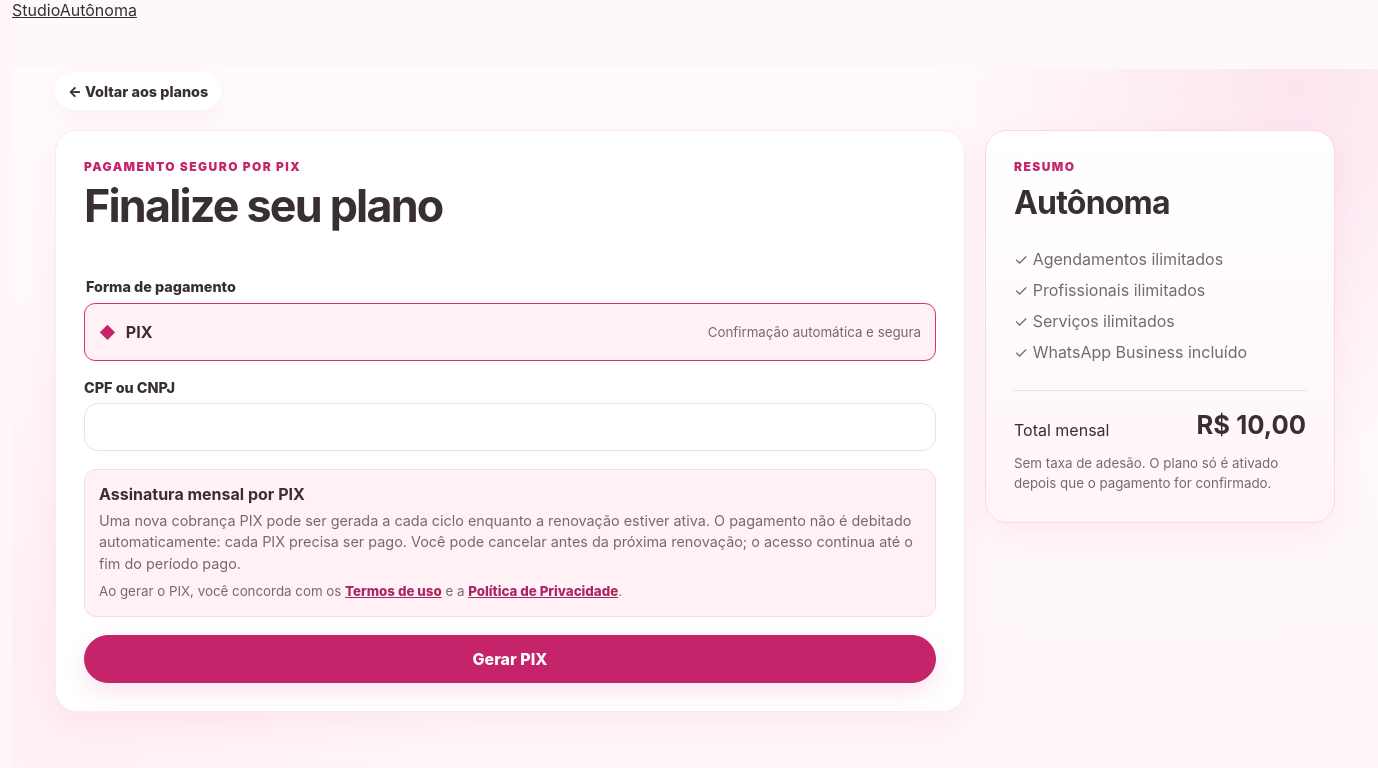
Test: checkout PIX › recupera PIX criado durante troca de plano sem enviar segundo POST
Expected: the heading "Autônoma" is shown, [1014,183,1170,222]
Type "12345678901" into the field labelled "CPF ou CNPJ". click: (510, 427)
box: [84,403,936,451]
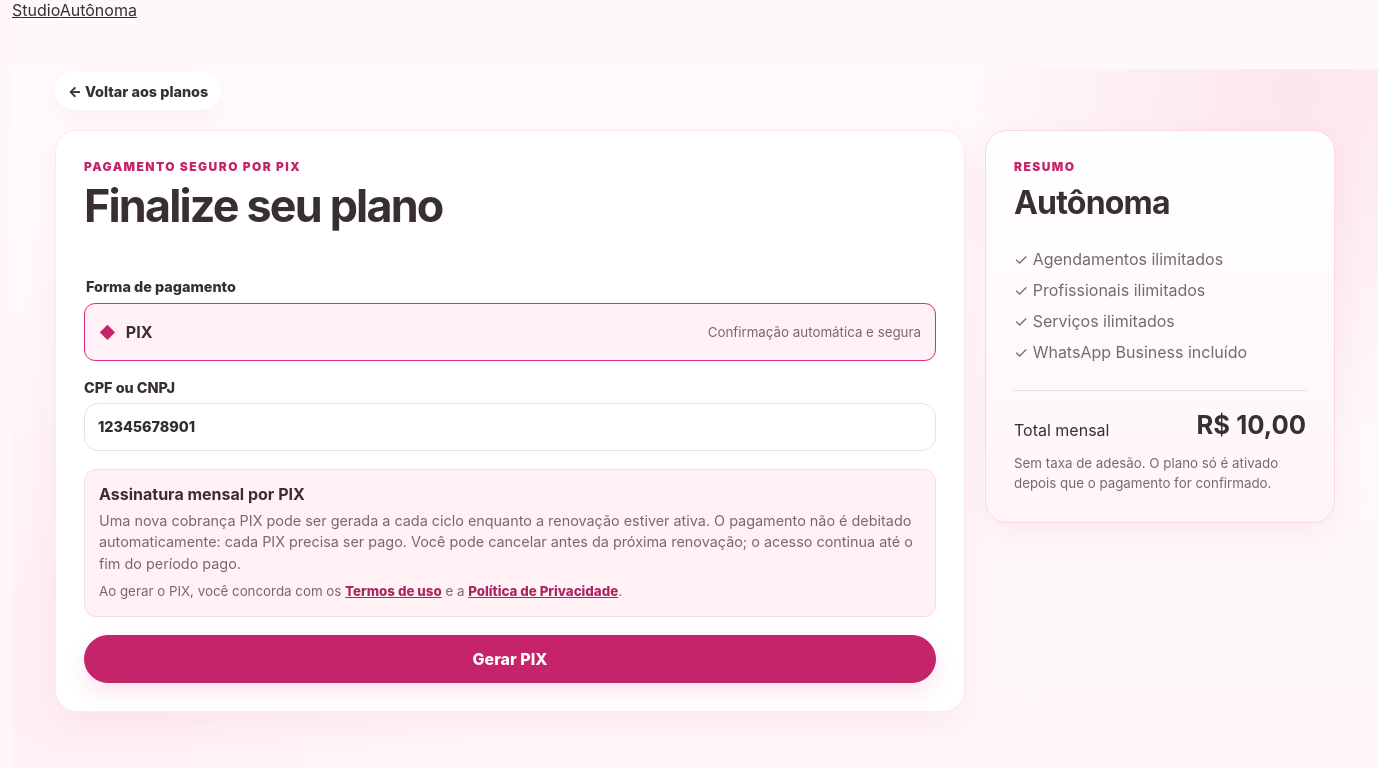
Submit the form named "Gerar PIX", box [55,130,965,712]
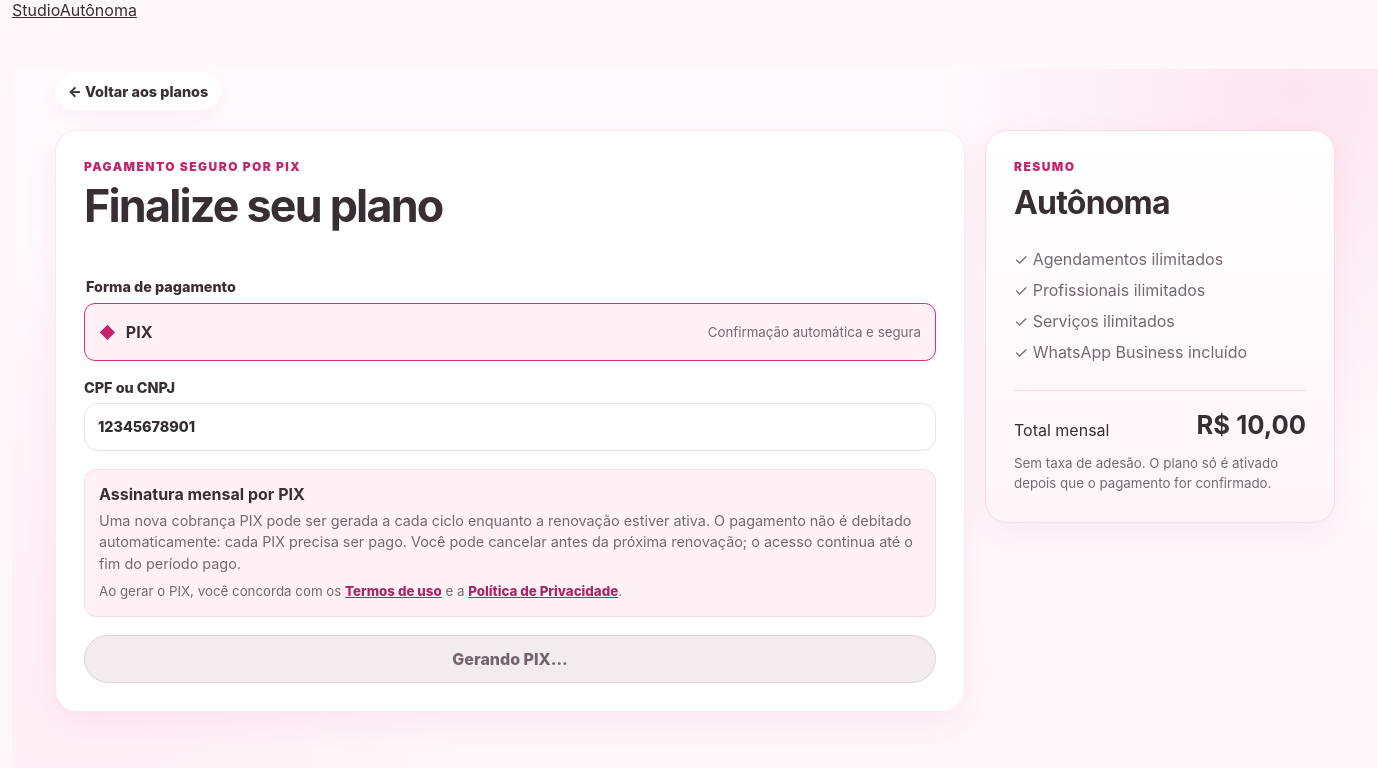
Click the link "Studio". click: (36, 10)
box: [12,0,60,20]
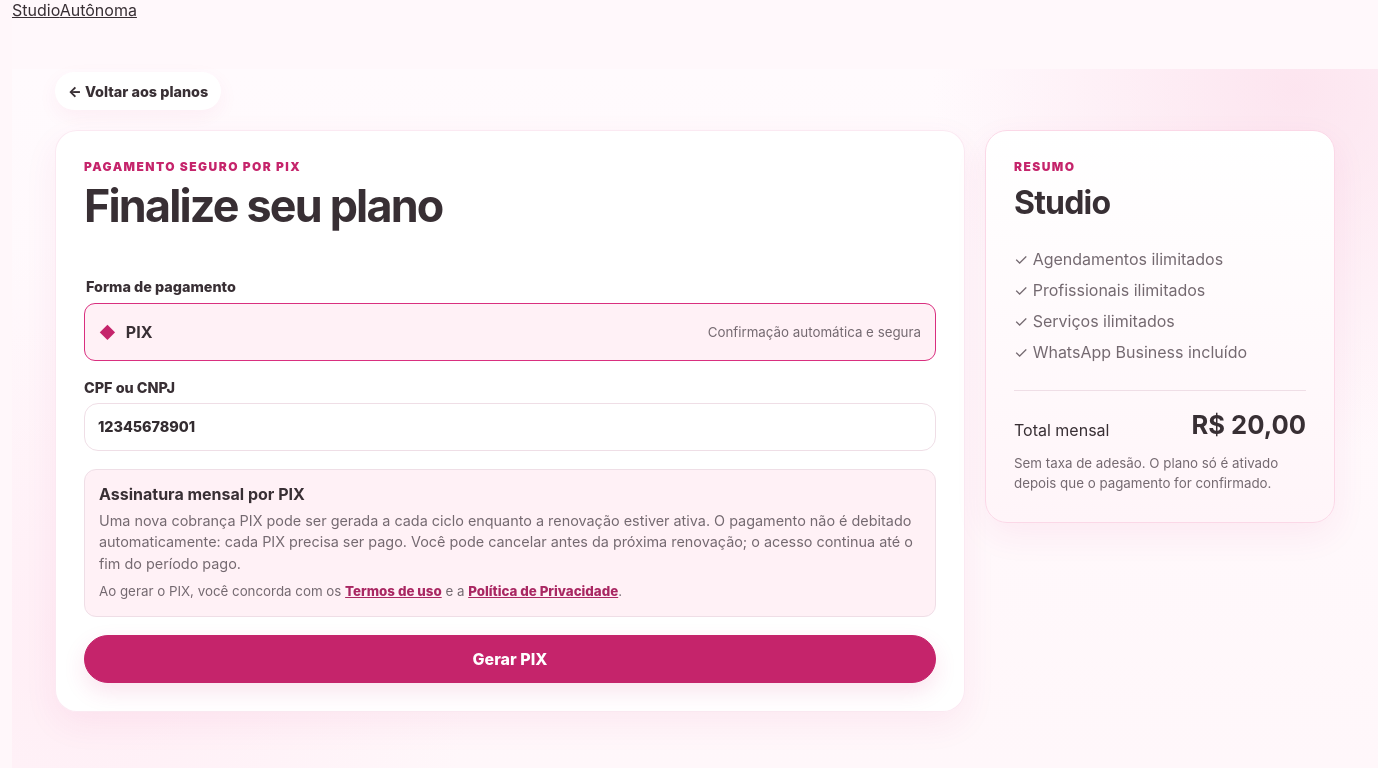
Expected: the heading "PIX gerado" is not shown
Expected: the heading "Studio" is shown, [1014,183,1110,222]
Click the link "Autônoma". click: (98, 10)
box: [60,0,137,20]
(page scrolled)
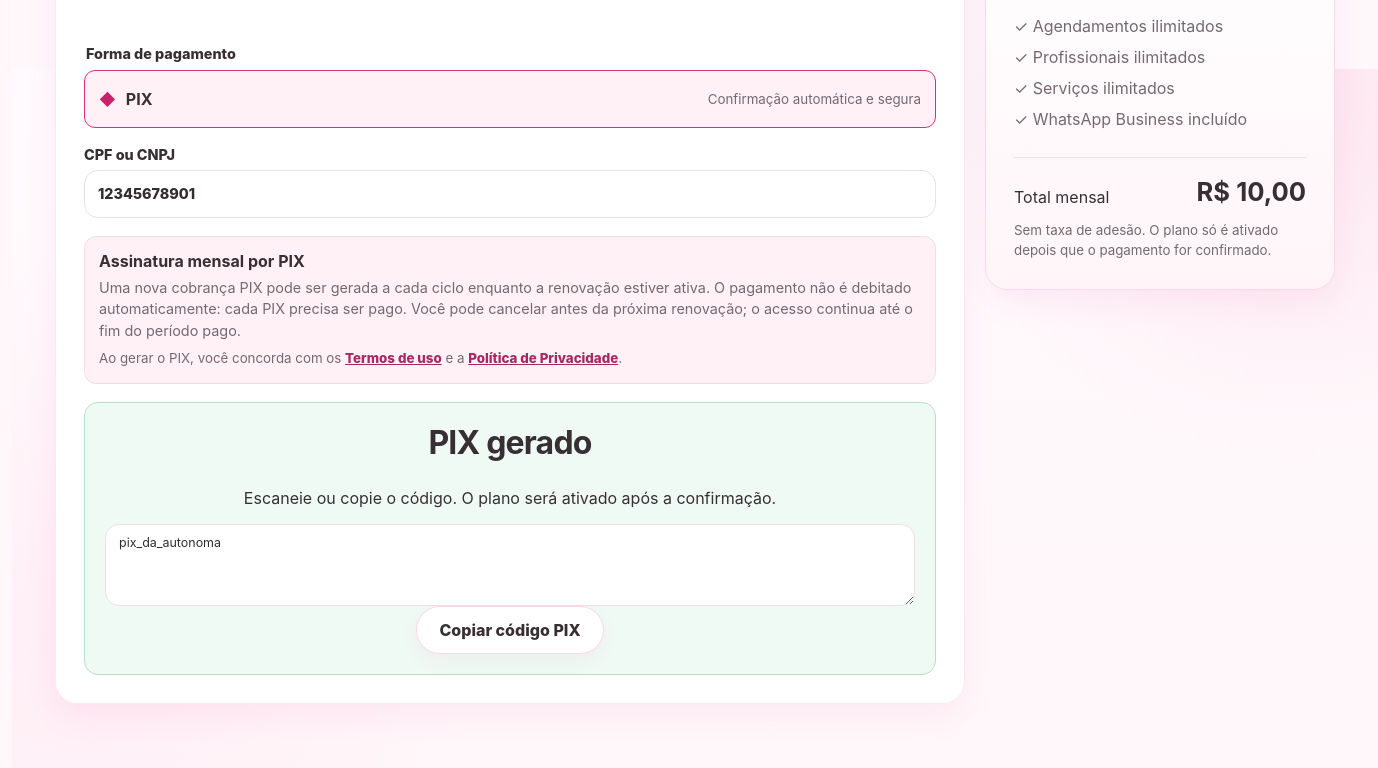
Expected: the heading "PIX gerado" is shown, [428,423,592,462]
Expected: the text box showing "pix_da_autonoma" is shown, [105,524,915,606]
